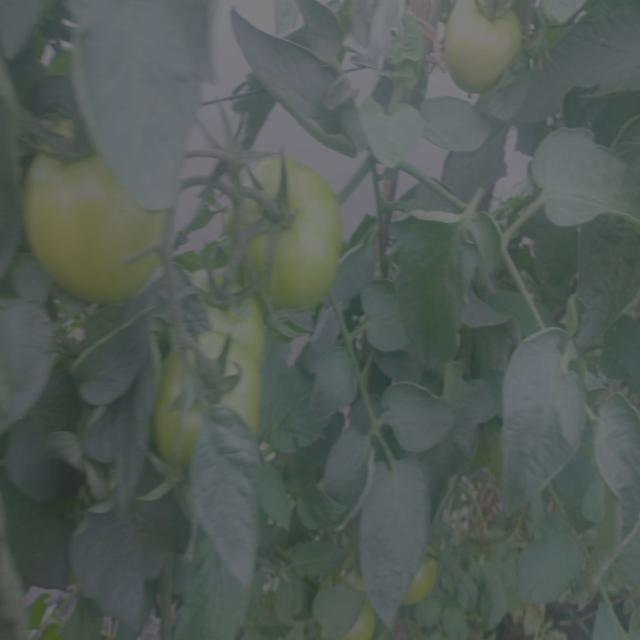tomato: (19, 115, 180, 308), (236, 151, 355, 309), (151, 342, 273, 479), (438, 1, 527, 95), (199, 282, 276, 347), (404, 553, 446, 611), (331, 601, 384, 640)
